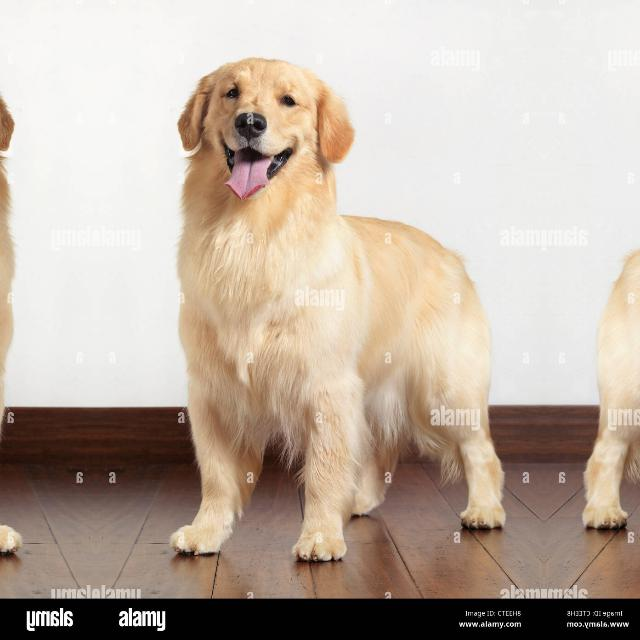dog: (142, 40, 542, 596), (545, 40, 640, 596), (0, 40, 48, 596)
